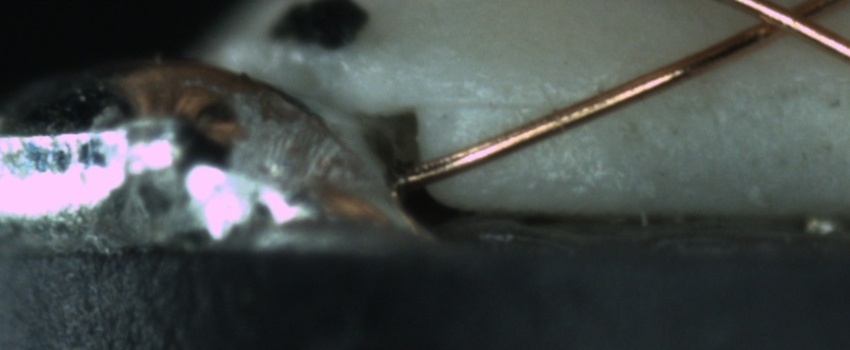CL: (729, 1, 836, 45)
DL: (439, 75, 593, 140)
